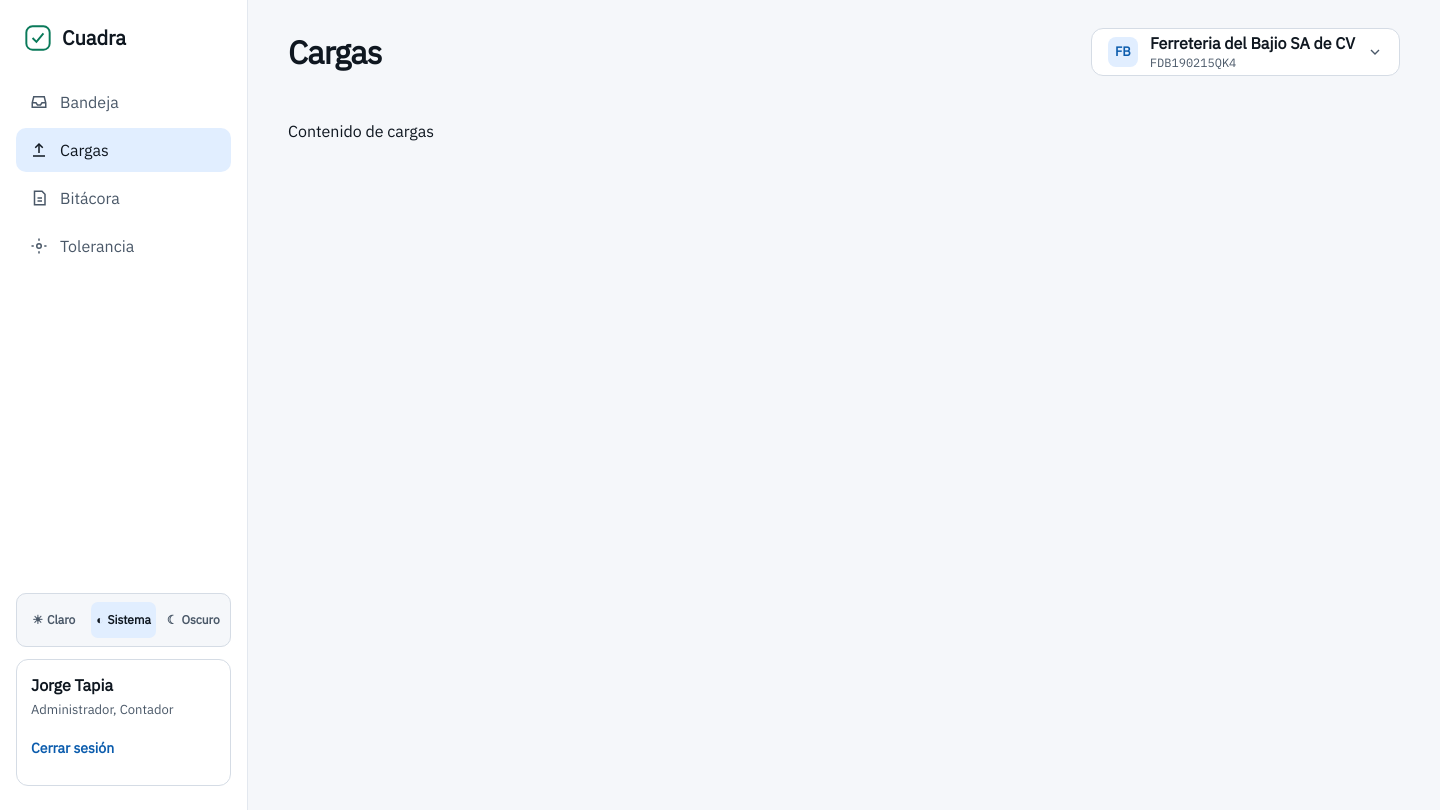
Test: ShellLayout: cambio de empresa y cierre de sesión › un 403 al pedir la lista muestra el permiso denegado y mantiene la sesión
This screenshot has width=1440, height=810.
Click the button named "Cambiar de empresa" at coordinates (1245, 52), box [1091,28,1400,76]
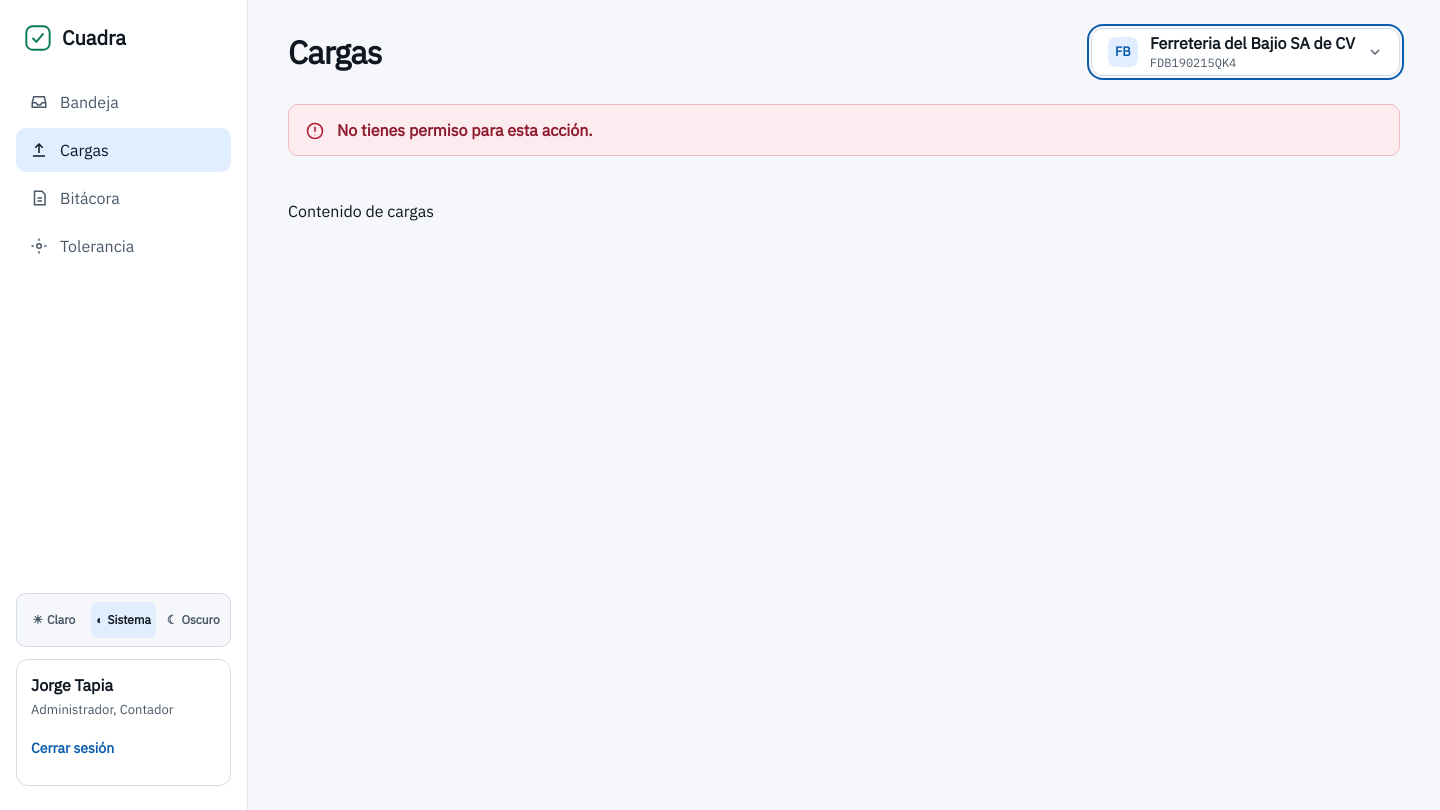
Now the message reads "No tienes permiso para esta acción.", box [337,120,593,140]
